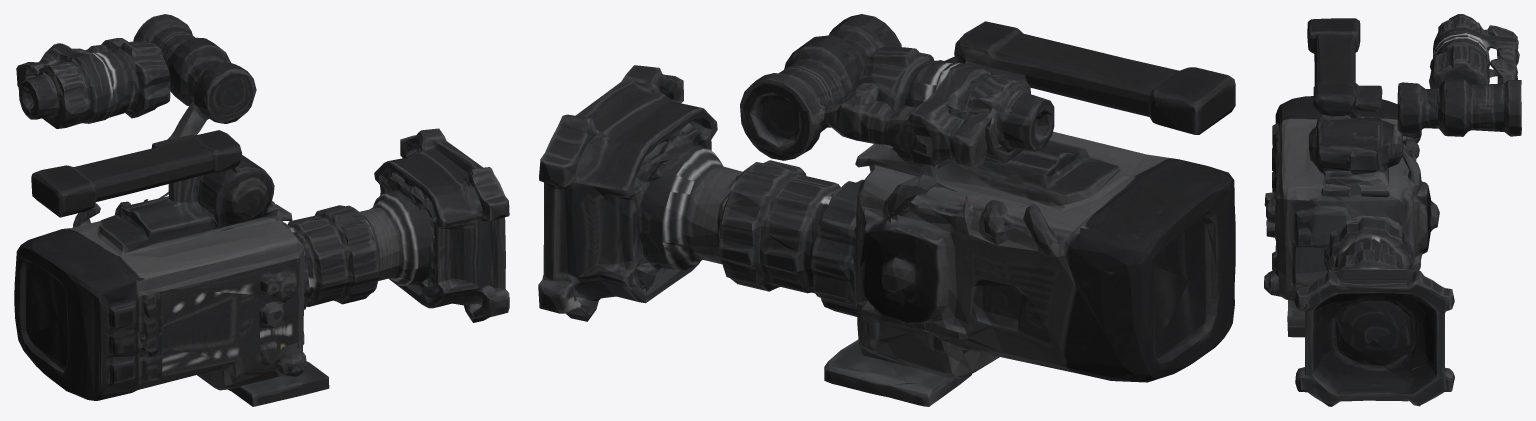
Rendered from BodyCinema.obj.
The picture shows the model from 3 angles, left to right: view 1: azimuth 30°, elevation 25°; view 2: azimuth 150°, elevation 25°; view 3: azimuth 270°, elevation 25°; orthographic projection. The views are drawn at different scales.
Bounding box in the file's own units: 59.85 × 37.6 × 35.1.
1 material, 1 textured.
